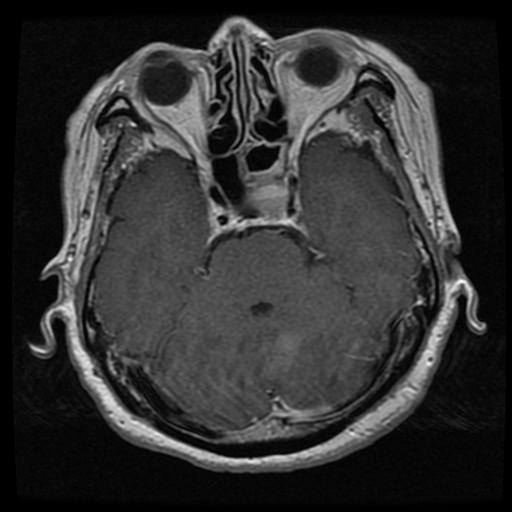Tumour-Pituitary: (208, 181, 296, 237)
